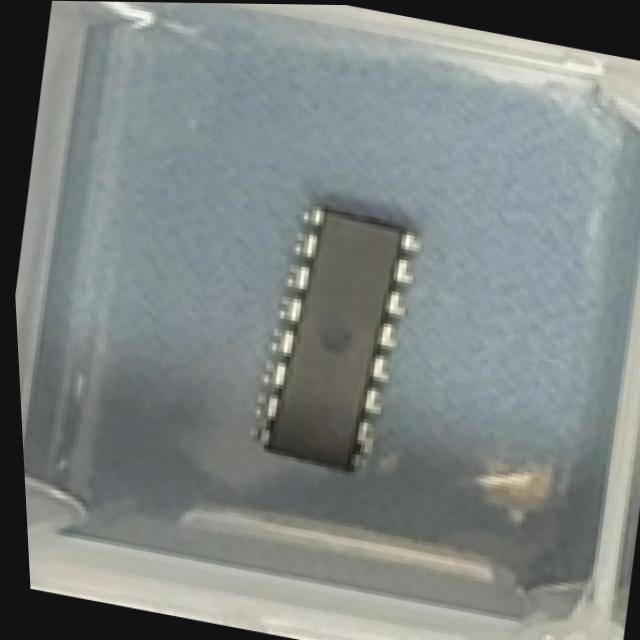IC: (240, 192, 438, 491)
